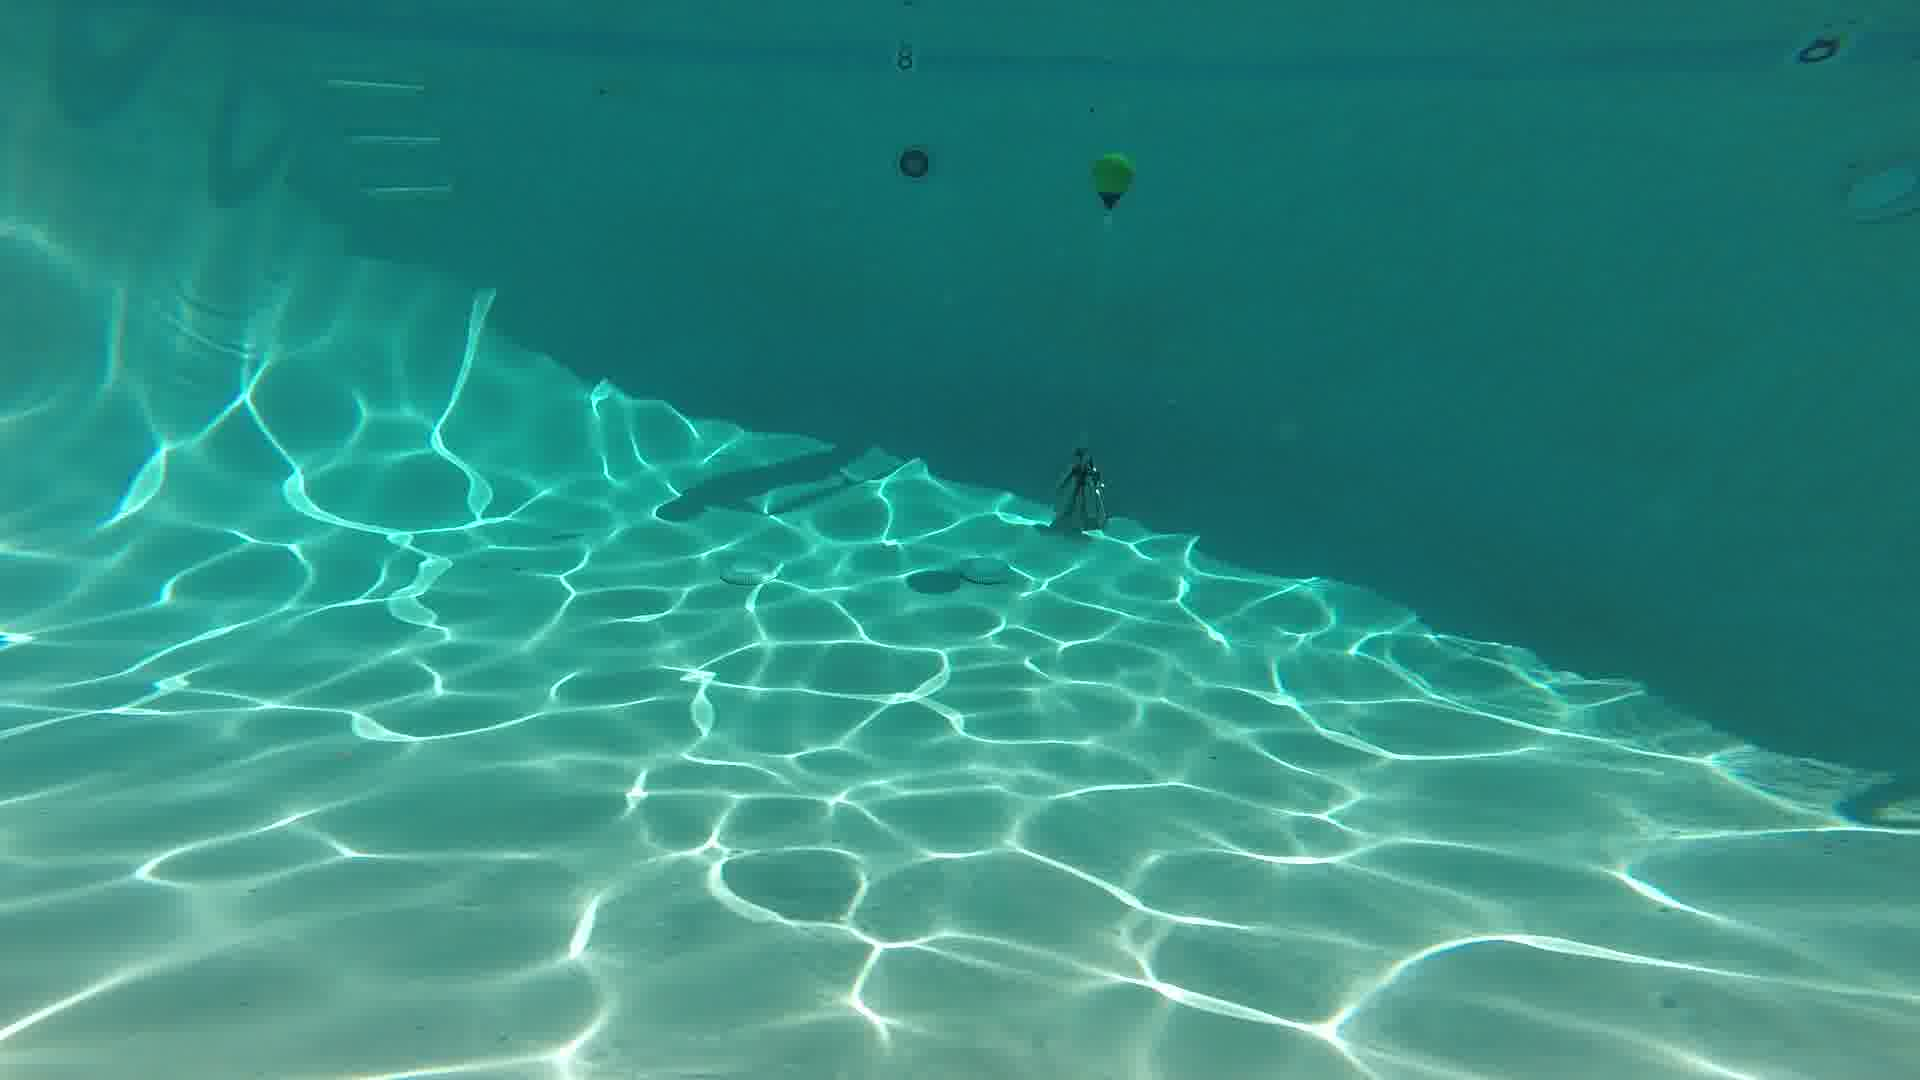yellow_buoy: (1091, 152, 1133, 214)
